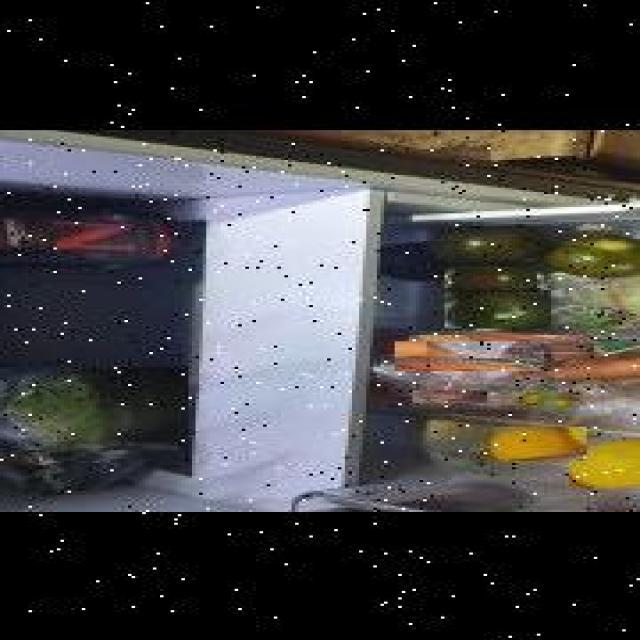bread: (0, 410, 43, 470)
carrot: (396, 338, 553, 368), (409, 333, 594, 350), (522, 352, 640, 377), (412, 388, 488, 401)
lemon: (569, 433, 640, 484), (487, 424, 587, 458)
pear: (0, 211, 64, 275)
salad: (0, 365, 188, 448), (547, 264, 640, 326)
tomato: (544, 230, 640, 276), (432, 224, 546, 262), (446, 288, 553, 326), (377, 238, 459, 280), (446, 264, 539, 290)
